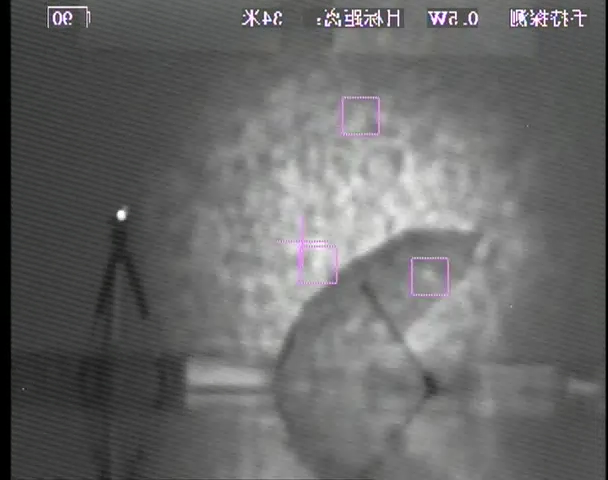my: (114, 208, 128, 220)
